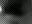person: (1, 6, 4, 15)
